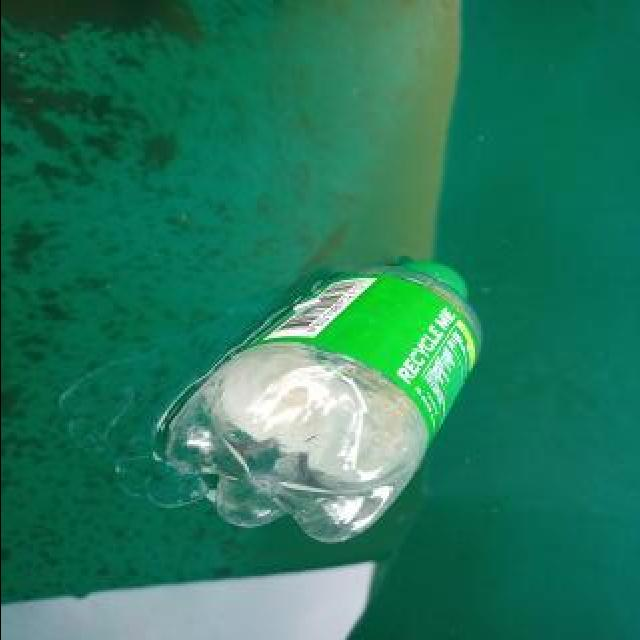Bottle: (157, 261, 489, 548)
